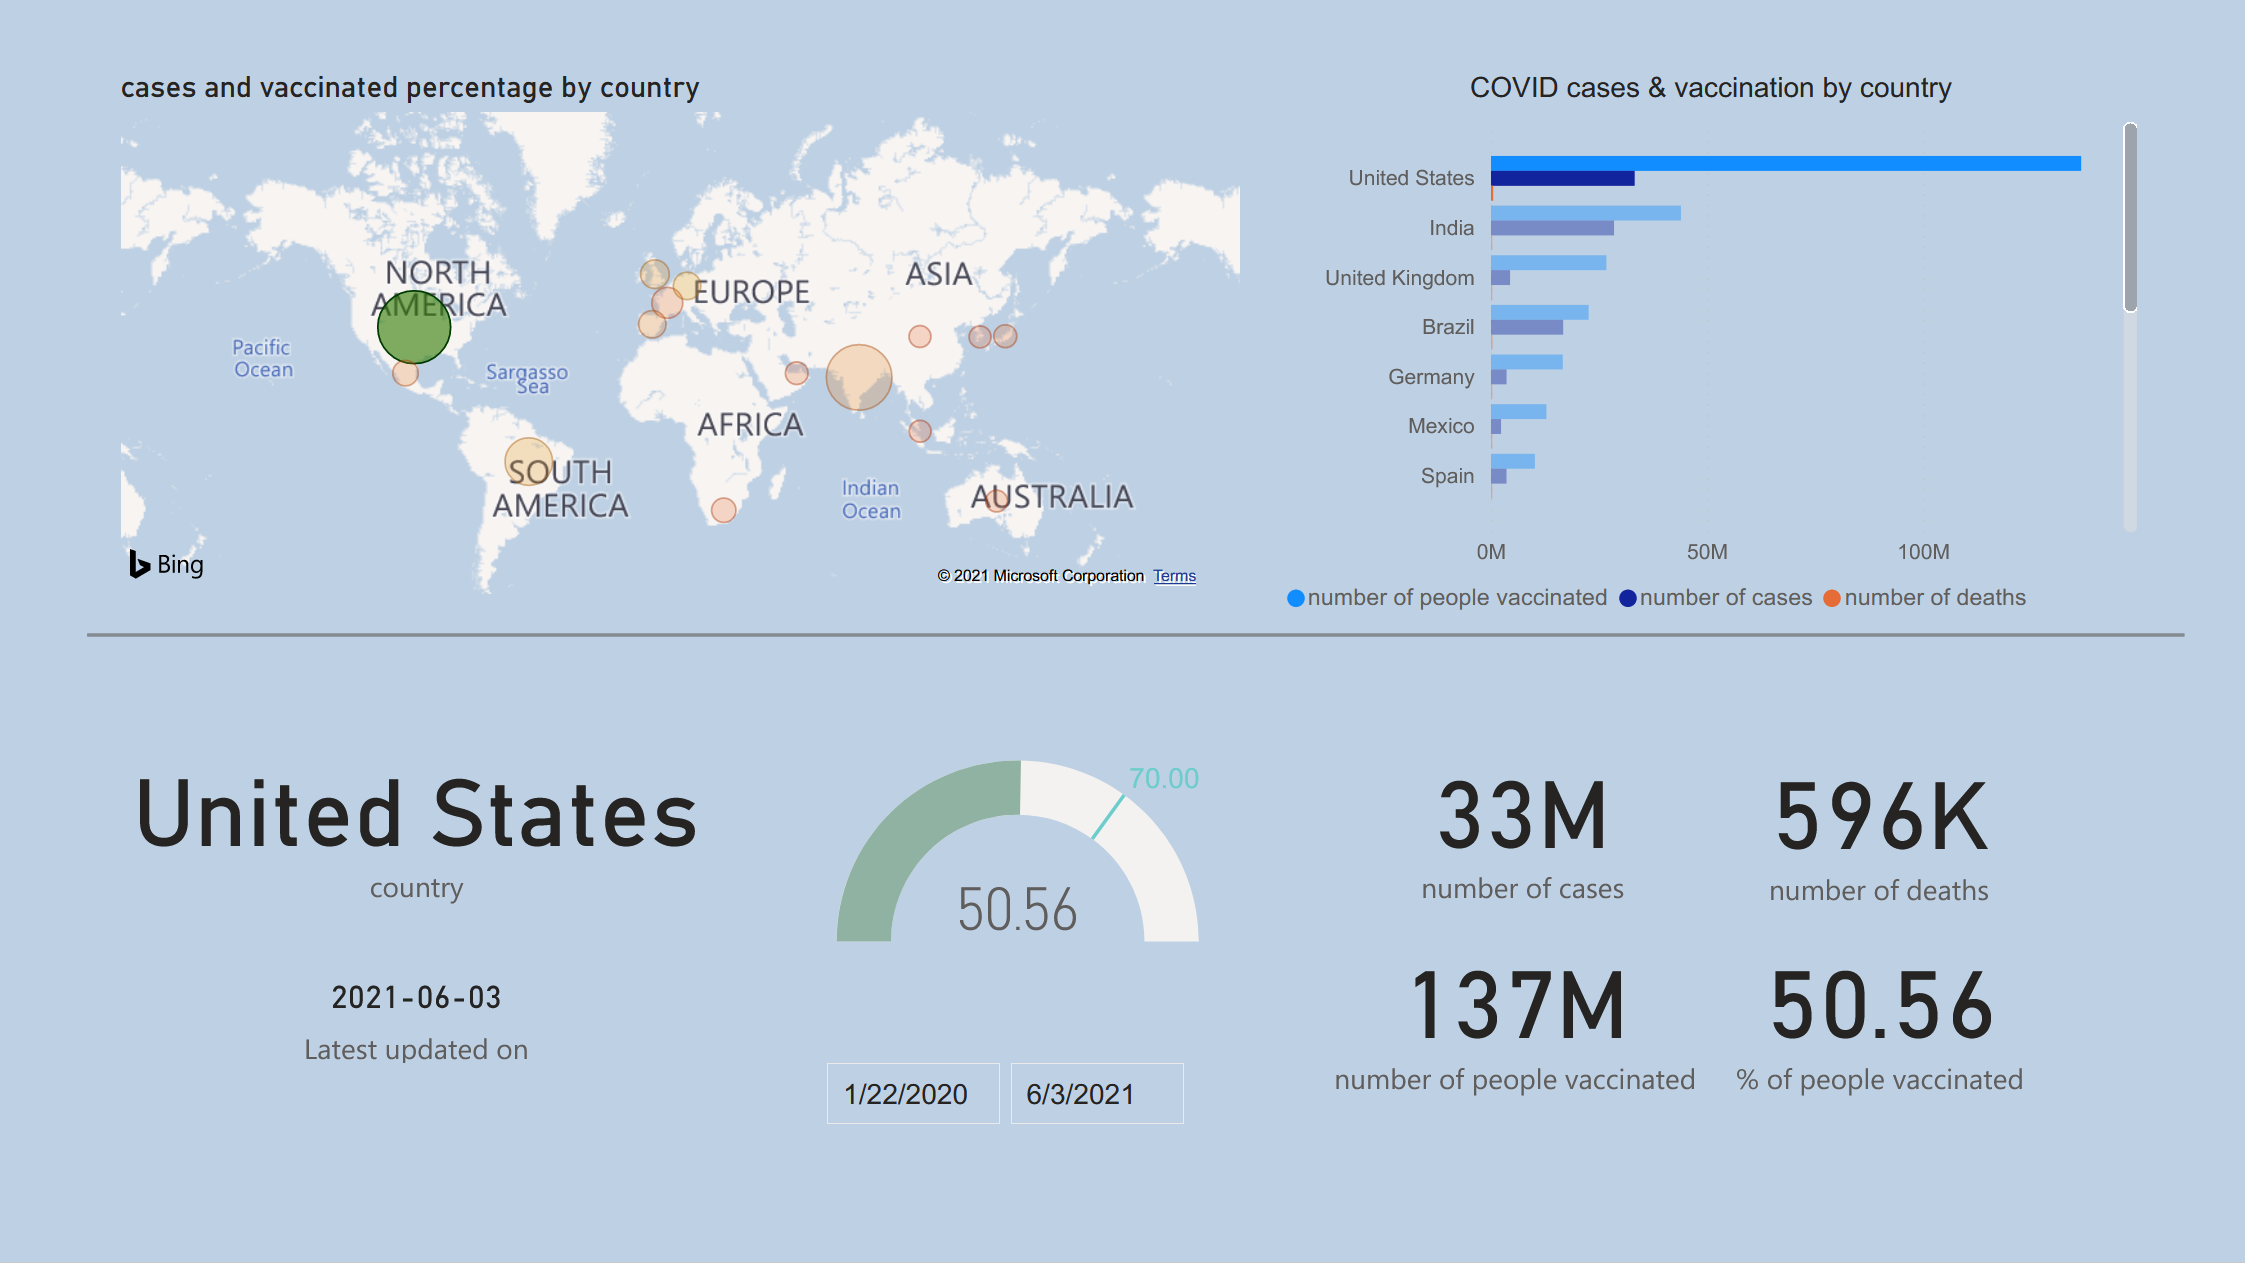

The page's visual inventory and layout, read from the dashboard file:
{"tool":"tableau","page":{"name":"Dashboard Country","canvas":[1600,900],"ordinal":0},"visuals":[{"type":"worksheet","box":[0,0,1600,900]},{"type":"worksheet","param":"horz","box":[8,8,1584,884]},{"type":"worksheet","param":"vert","box":[8,8,1584,884]},{"type":"worksheet","param":"horz","box":[8,8,1584,884]},{"type":"worksheet","param":"horz","box":[8,8,1584,884]},{"type":"worksheet","param":"horz","box":[8,8,1584,884]},{"type":"worksheet","box":[8,8,1584,884]},{"type":"worksheet","title":"map(country)","mark":"Automatic","box":[8,8,760,436.9]},{"type":"worksheet","box":[768,8,32,884]},{"type":"worksheet","title":"flight(month)","mark":"Automatic","rows":["flight_number","seat_number"],"cols":["Date"],"box":[800,8,792,401]},{"type":"worksheet","title":"flight(month)","mark":"Automatic","rows":["flight_number","seat_number"],"cols":["Date"],"param":"[federated.0fta0d005lgplk10b2xen0cpn5uy].[:Measure Names]","box":[800,409,792,36]},{"type":"worksheet","title":"map(country)","mark":"Automatic","param":"[federated.0koqm8t1b1amjc15rmujw01p9wik].[max:percentage_people_vaccinated:qk]","box":[8,445,244,55.1]},{"type":"worksheet","title":"map(country)","mark":"Automatic","param":"[federated.0koqm8t1b1amjc15rmujw01p9wik].[max:number_of_cases:qk]","box":[252,445,516,55.1]},{"type":"worksheet","title":"flight(country)","mark":"Bar","rows":["flight_number"],"cols":["Country Name (copy)_24769818702872577","Date"],"box":[800,445,683,401]},{"type":"worksheet","title":"flight(country)","mark":"Bar","rows":["flight_number"],"cols":["Country Name (copy)_24769818702872577","Date"],"param":"[federated.0fta0d005lgplk10b2xen0cpn5uy].[none:country_name:nk]","box":[1483,445,109,401]},{"type":"worksheet","title":"stat(country)","mark":"Automatic","rows":["Country Name (copy)_24769818702336000"],"box":[8,500,760,392]},{"type":"worksheet","title":"flight(country)","mark":"Bar","rows":["flight_number"],"cols":["Country Name (copy)_24769818702872577","Date"],"param":"[federated.0fta0d005lgplk10b2xen0cpn5uy].[qr:Date:ok]","box":[800,846,554,46]},{"type":"worksheet","box":[1354,846,238,46]}]}

Visuals, with their boxes in screenshot pixels (x1, y1, x2, y2), scaled from the page's 1600x900 canvas onto the 2245x1263 screenshot:
worksheet: 0/0/2244/1262
worksheet: 11/11/2234/1252
worksheet: 11/11/2234/1252
worksheet: 11/11/2234/1252
worksheet: 11/11/2234/1252
worksheet: 11/11/2234/1252
worksheet: 11/11/2234/1252
"map(country)" worksheet: 11/11/1078/624
worksheet: 1078/11/1122/1252
"flight(month)" worksheet: 1122/11/2234/574
"flight(month)" worksheet: 1122/574/2234/624
"map(country)" worksheet: 11/624/354/702
"map(country)" worksheet: 354/624/1078/702
"flight(country)" worksheet (Bar marks): 1122/624/2081/1187
"flight(country)" worksheet (Bar marks): 2081/624/2234/1187
"stat(country)" worksheet: 11/702/1078/1252
"flight(country)" worksheet (Bar marks): 1122/1187/1900/1252
worksheet: 1900/1187/2234/1252
